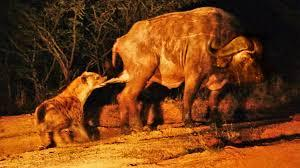Buffalo: (108, 6, 300, 129)
hyenas: (20, 63, 113, 155)
